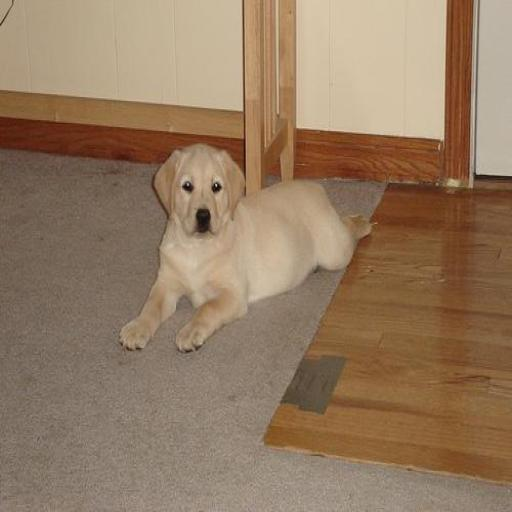dog_face: (156, 142, 239, 233)
